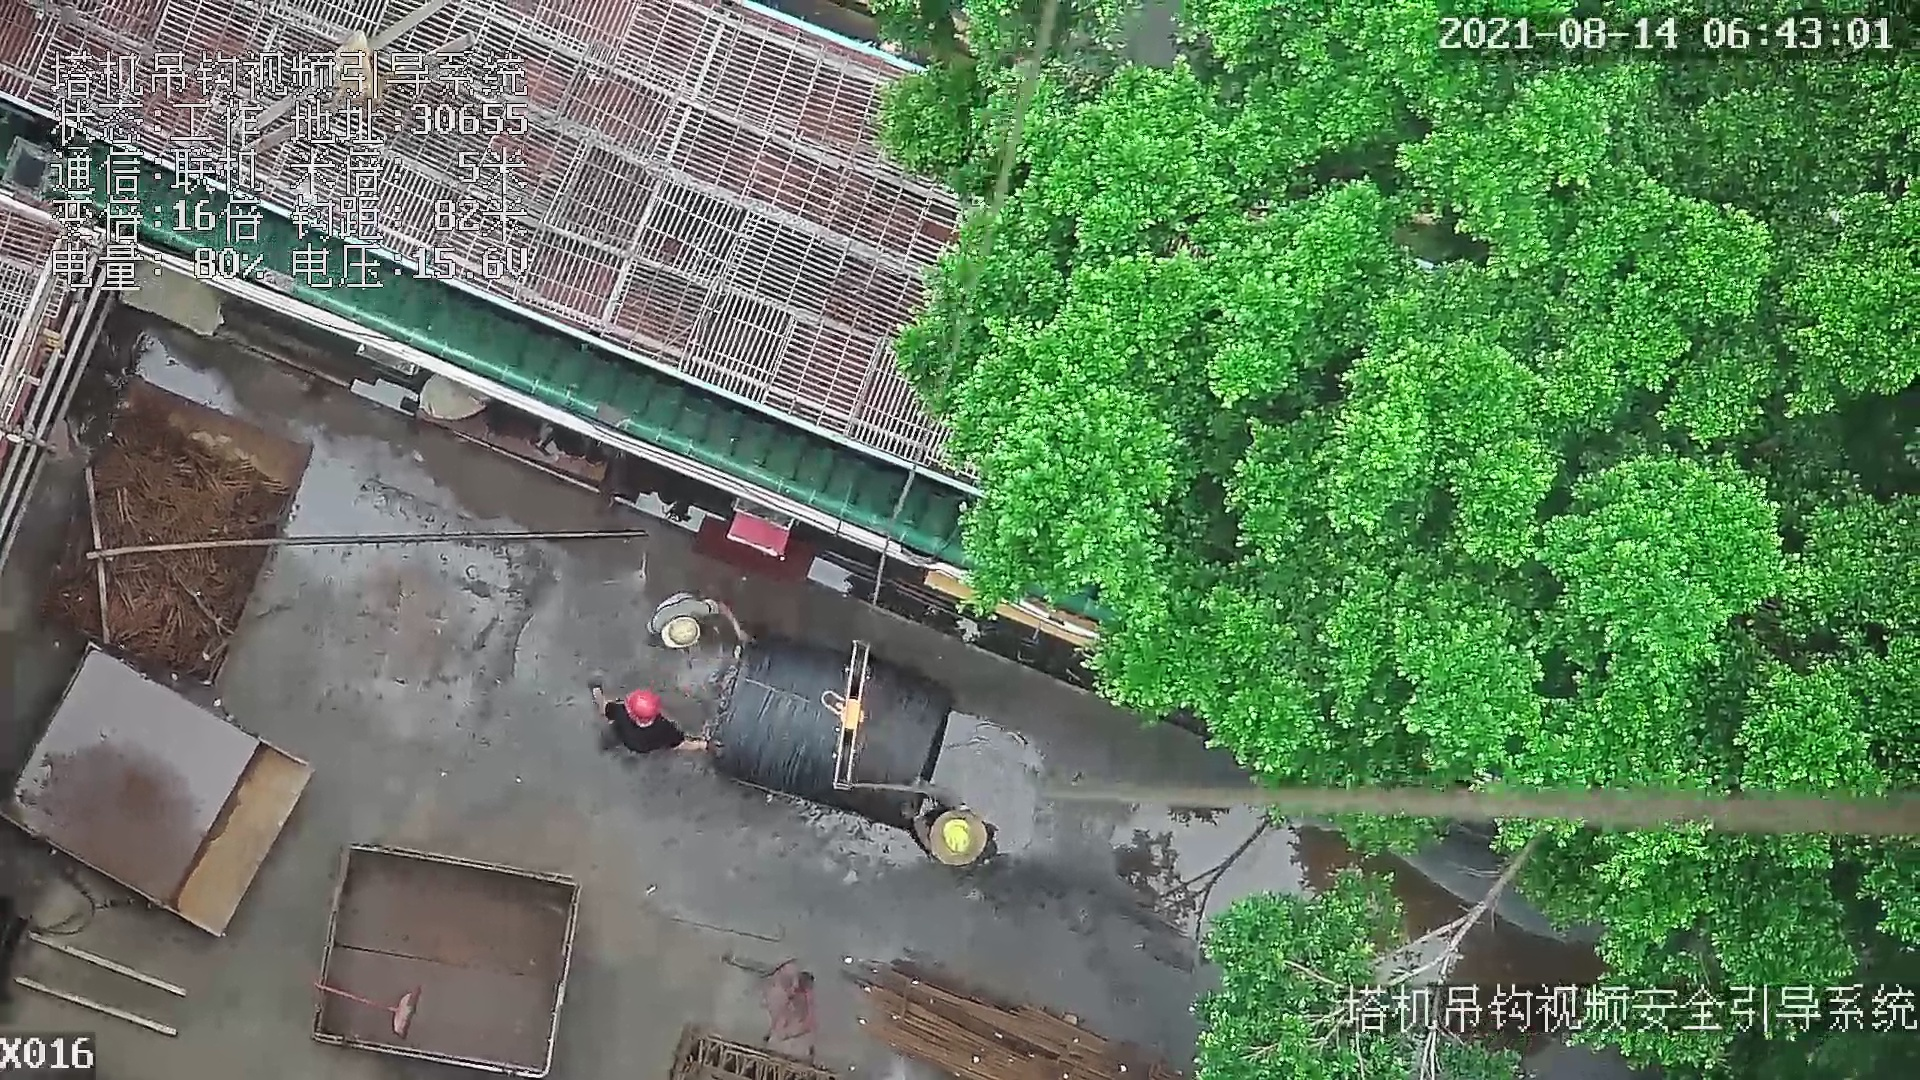helmet: (619, 683, 666, 722), (656, 615, 703, 650), (938, 819, 981, 857)
person: (904, 787, 1006, 891), (583, 682, 718, 759), (642, 589, 758, 650)
